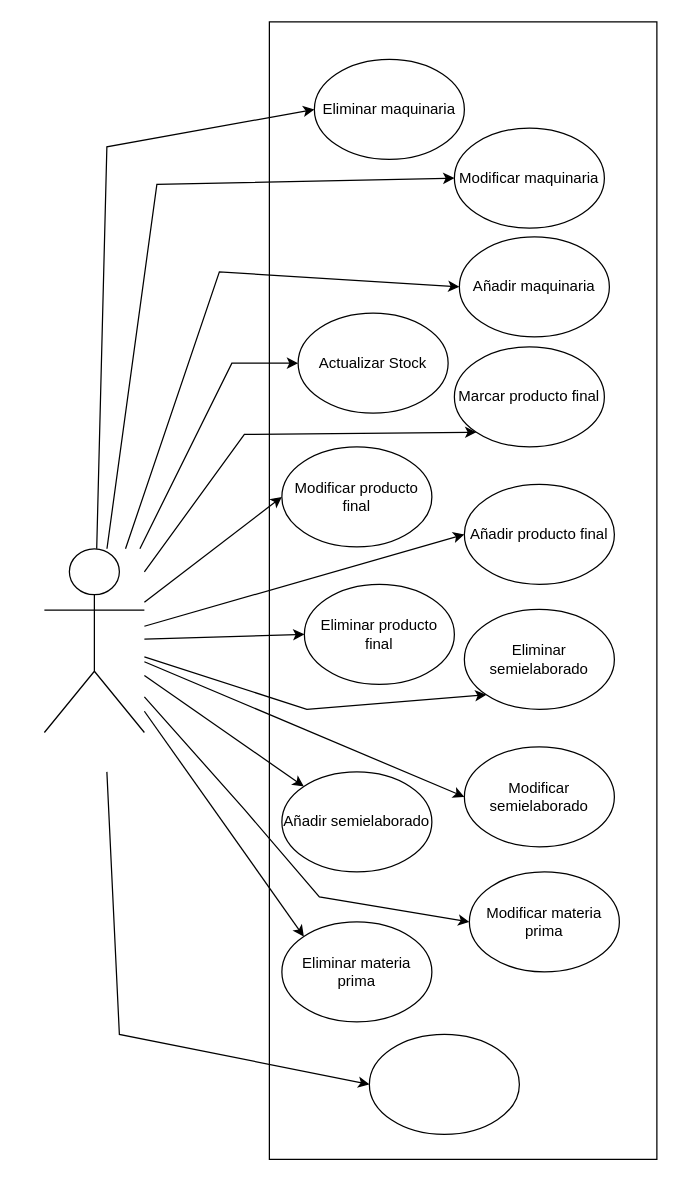
The diagram is 679 pixels wide and 1181 high, and some of its shapes have lost their labels. The shapes that lost their labels are listed below. From the top down, each one's box as (x1, y1, x2, y2) in pixels, then its label:
(43, 548, 144, 732): Empleado Producción
(368, 1033, 519, 1134): Añadir materia prima
